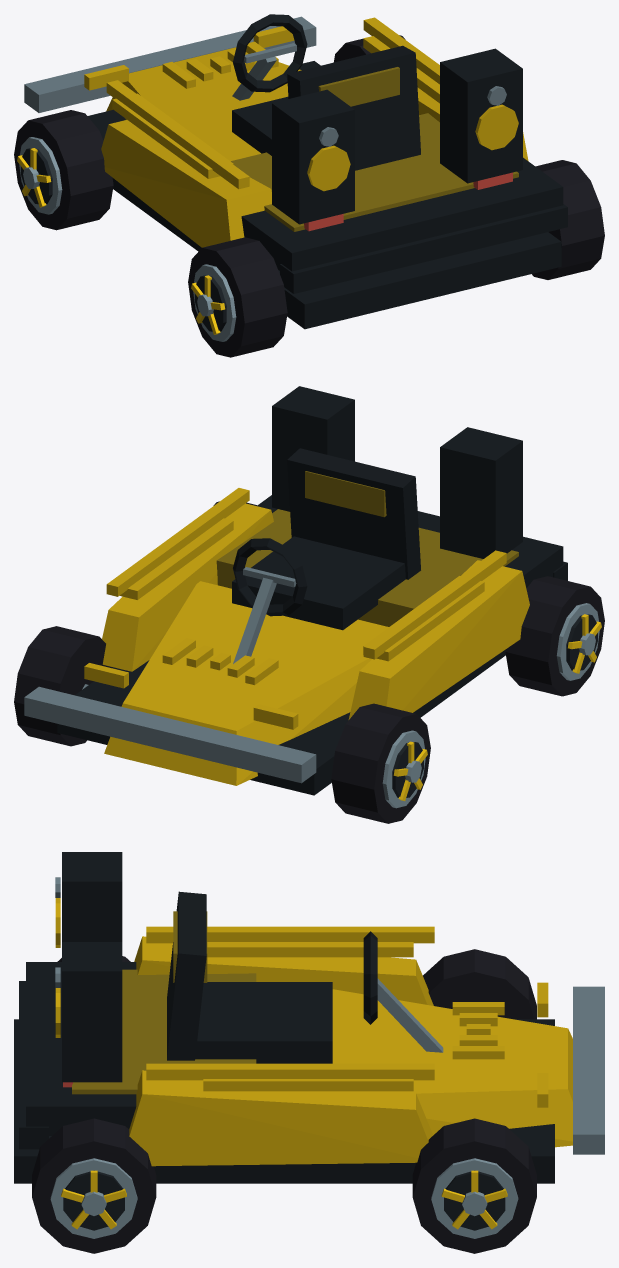
Rendered from kart.glb.
3 views of the same model, one above another, from view 1: azimuth 30°, elevation 25°; view 2: azimuth 150°, elevation 25°; view 3: azimuth 270°, elevation 25° (orthographic). The views are drawn at different scales.
Visible parts, largest first — view 1: chassis, wheel-rear-left, wheel-front-left, wheel-rear-right, wheel-front-right; view 2: chassis, wheel-front-left, wheel-rear-left, wheel-front-right; view 3: chassis, wheel-front-right, wheel-rear-right, wheel-front-left.
Boxes of the visible parts, x1=… form: chassis: x1=24, y1=14, x2=567, y2=329; wheel-rear-left: x1=188, y1=237, x2=287, y2=357; wheel-front-left: x1=14, y1=110, x2=113, y2=230; wheel-rear-right: x1=532, y1=160, x2=604, y2=279; wheel-front-right: x1=333, y1=35, x2=405, y2=62; chassis: x1=24, y1=386, x2=567, y2=795; wheel-front-left: x1=331, y1=703, x2=430, y2=823; wheel-rear-left: x1=505, y1=576, x2=604, y2=696; wheel-front-right: x1=14, y1=626, x2=112, y2=746; chassis: x1=14, y1=852, x2=604, y2=1183; wheel-front-right: x1=412, y1=1118, x2=536, y2=1253; wheel-rear-right: x1=32, y1=1118, x2=156, y2=1253; wheel-front-left: x1=423, y1=949, x2=536, y2=1019.
Size of the model in its own units: 2.44 by 1.36 by 2.95.
